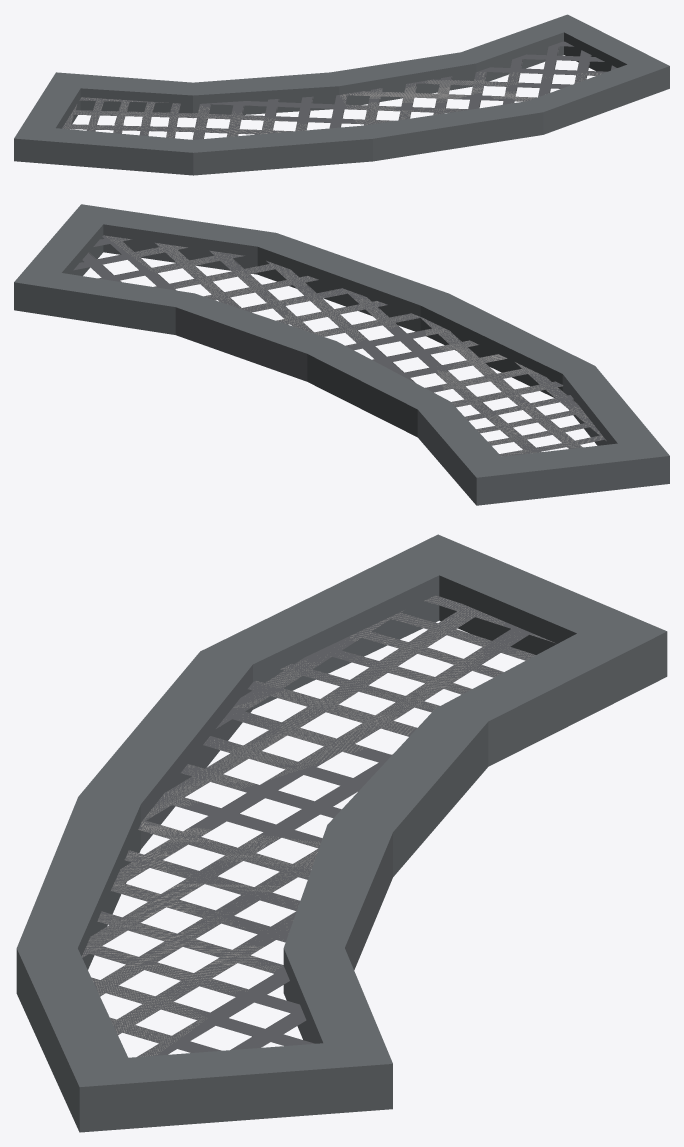
Rendered from LightGreyMetalFloorSmallCurvedPlatform1.fbx.
3 renders of one model, top to bottom at view 1: azimuth 30°, elevation 25°; view 2: azimuth 150°, elevation 25°; view 3: azimuth 270°, elevation 25°, orthographic. The views are drawn at different scales.
Visible parts, largest first — view 1: LightGreyMetalFloorSmallCurvedPlatform1; view 2: LightGreyMetalFloorSmallCurvedPlatform1; view 3: LightGreyMetalFloorSmallCurvedPlatform1.
Boxes of the visible parts, x1,y1,x2,y2 form: LightGreyMetalFloorSmallCurvedPlatform1: (14, 14, 669, 175); LightGreyMetalFloorSmallCurvedPlatform1: (14, 204, 669, 505); LightGreyMetalFloorSmallCurvedPlatform1: (16, 534, 667, 1132).
Bounding box in the file's own units: 716 × 27.41 × 356.
Materials: 3 (2 with a texture image).
